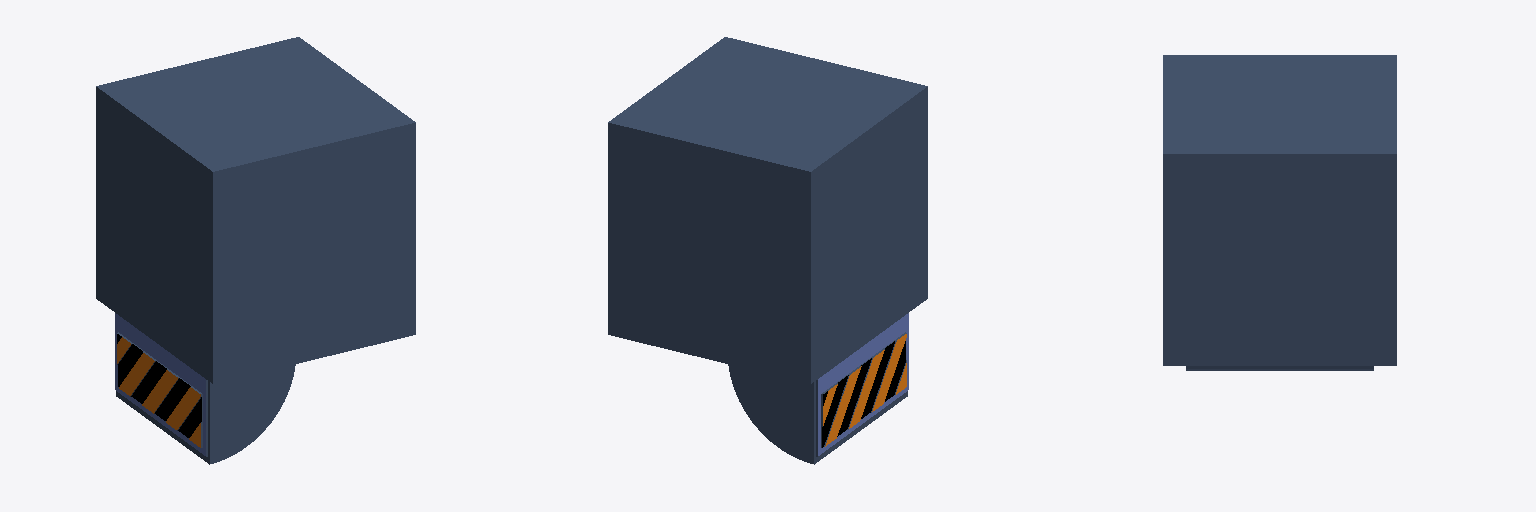
File: 装饰格子1.obj
3 renders of one model, left to right at view 1: azimuth 30°, elevation 25°; view 2: azimuth 150°, elevation 25°; view 3: azimuth 270°, elevation 25°, orthographic.
Visible parts, largest first — view 1: 装饰格子1; view 2: 装饰格子1; view 3: 装饰格子1.
Part boxes in pixels (left/top/right/bottom): 装饰格子1: left=96, top=37, right=415, bottom=464; 装饰格子1: left=608, top=37, right=927, bottom=464; 装饰格子1: left=1163, top=55, right=1396, bottom=370.
Size of the model in its own units: 1 by 1.43 by 1.